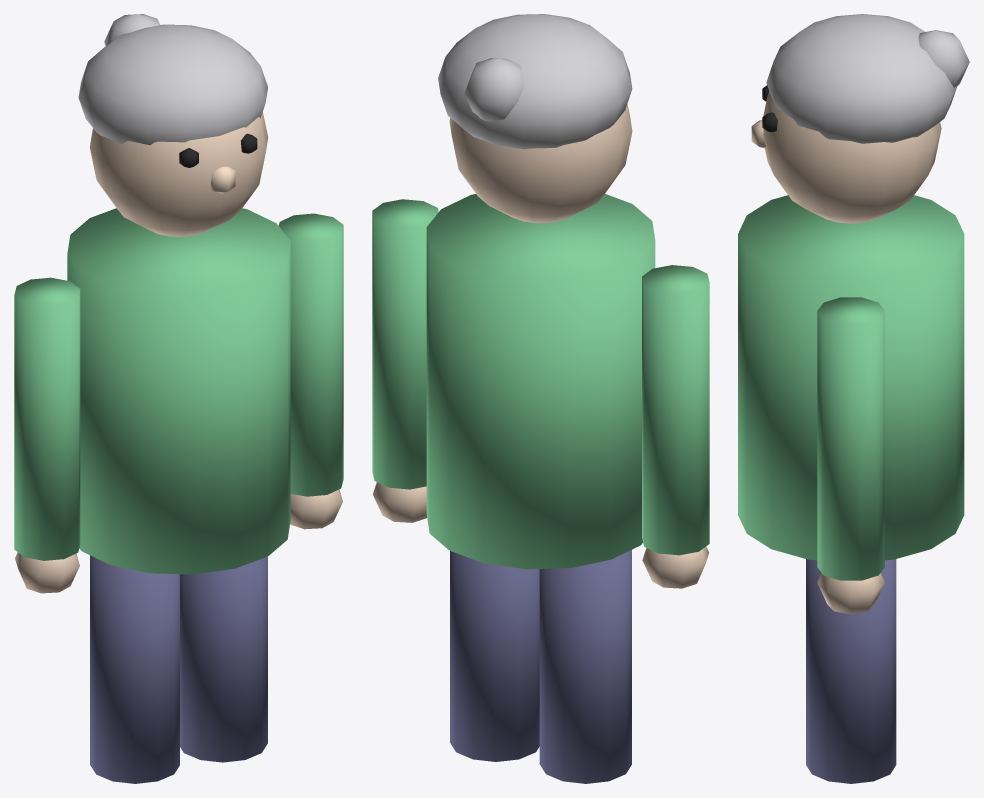
Rendered from customer_2.fbx.
3 views of the same model, side by side, from view 1: azimuth 30°, elevation 25°; view 2: azimuth 150°, elevation 25°; view 3: azimuth 270°, elevation 25° (orthographic). The views are drawn at different scales.
Parts seen in each view (by area): view 1: customer_2; view 2: customer_2; view 3: customer_2.
Boxes of the visible parts, x1,y1,x2,y2 form: customer_2: (14,14,343,783); customer_2: (372,14,709,783); customer_2: (738,14,969,783).
Bounding box in the file's own units: 0.66 × 1.4 × 0.41.
